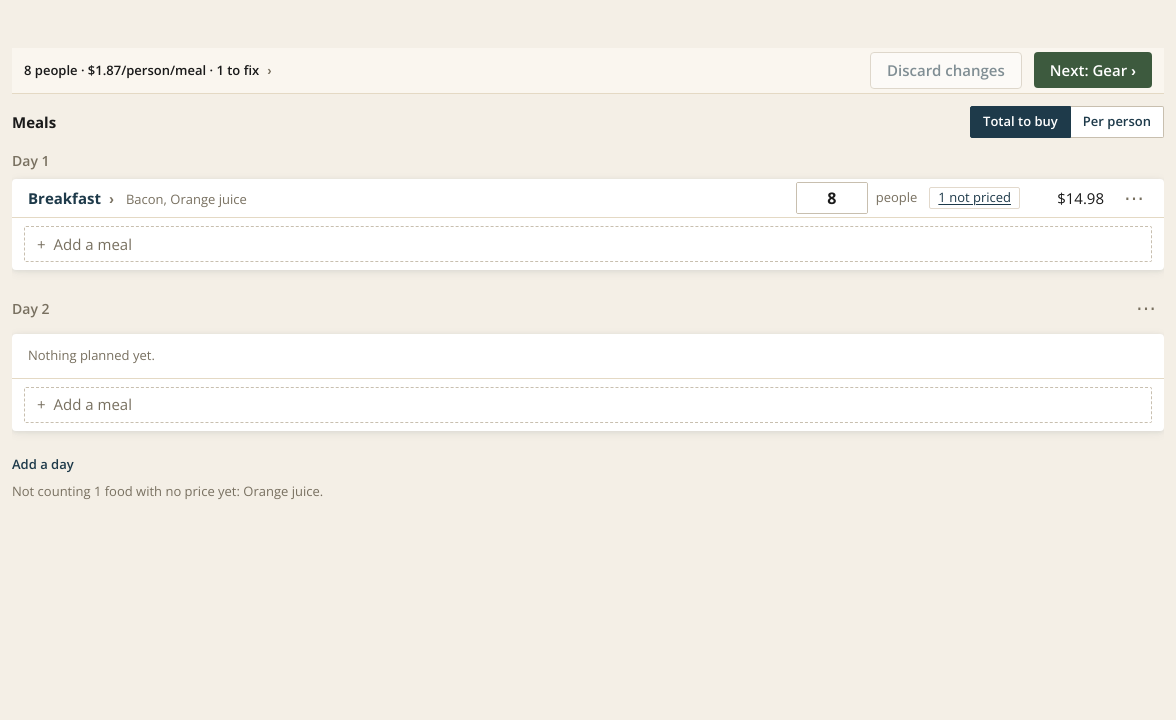
Test: PlanTab › OpenMeal_MarksTheItemThatHasNoPriceYet_AndNotTheOthers
Click the button "Breakfast ›": (71,198) x1=28 y1=187 x2=114 y2=209
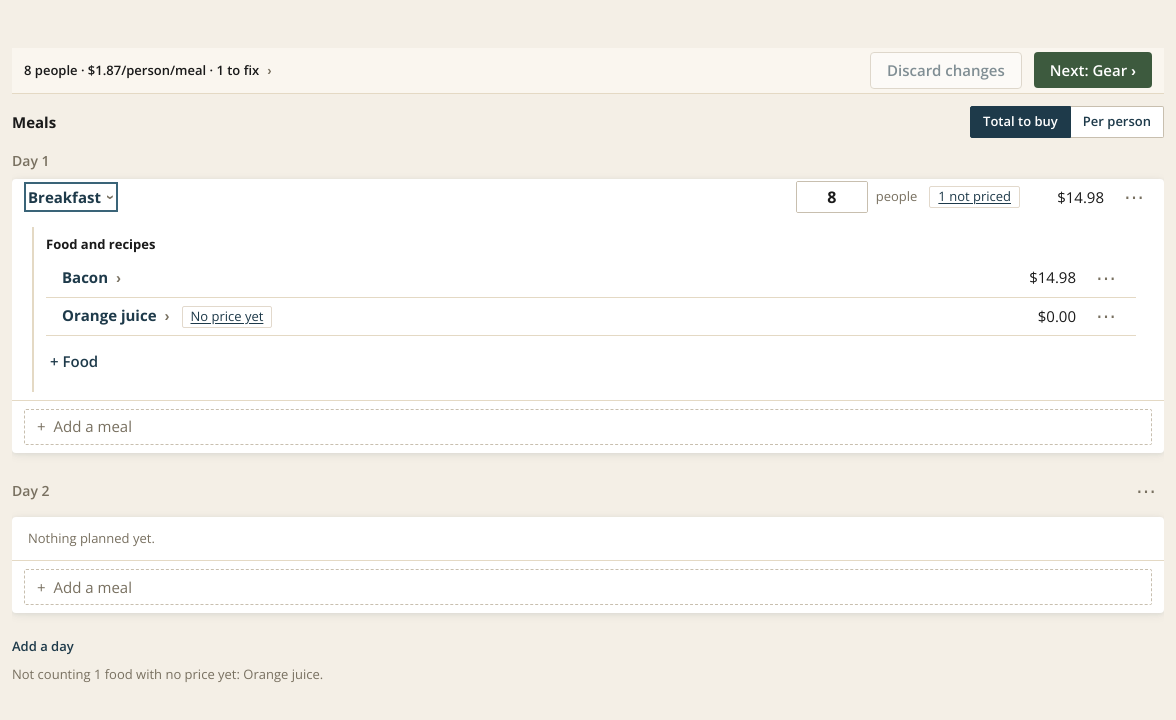
Check: the number of buttons "No price yet" is 1, box x1=182 y1=306 x2=272 y2=328
Check: the list item "No price yet" shows "juice", box x1=62 y1=304 x2=170 y2=327
